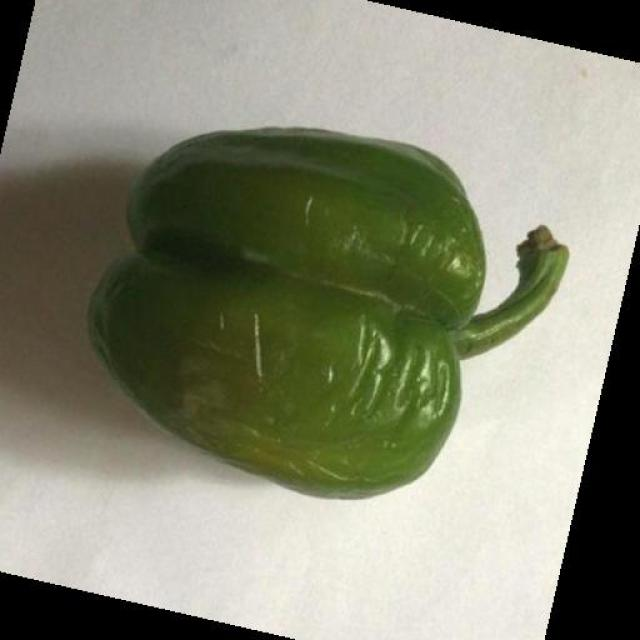Stale_Capsicum: (90, 70, 576, 513)
